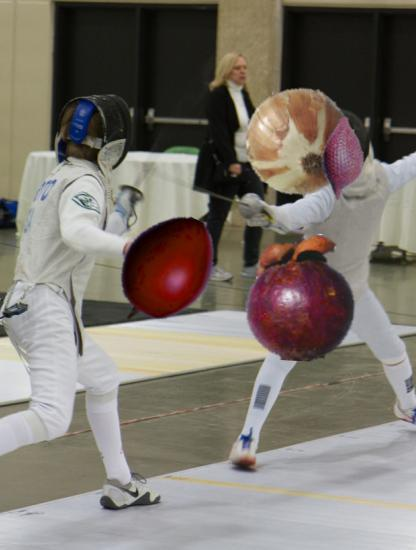Mangostan: (237, 233, 366, 362)
Onion: (243, 85, 356, 198)
Salak: (300, 116, 387, 203)
Tamarillo: (103, 211, 226, 334)
